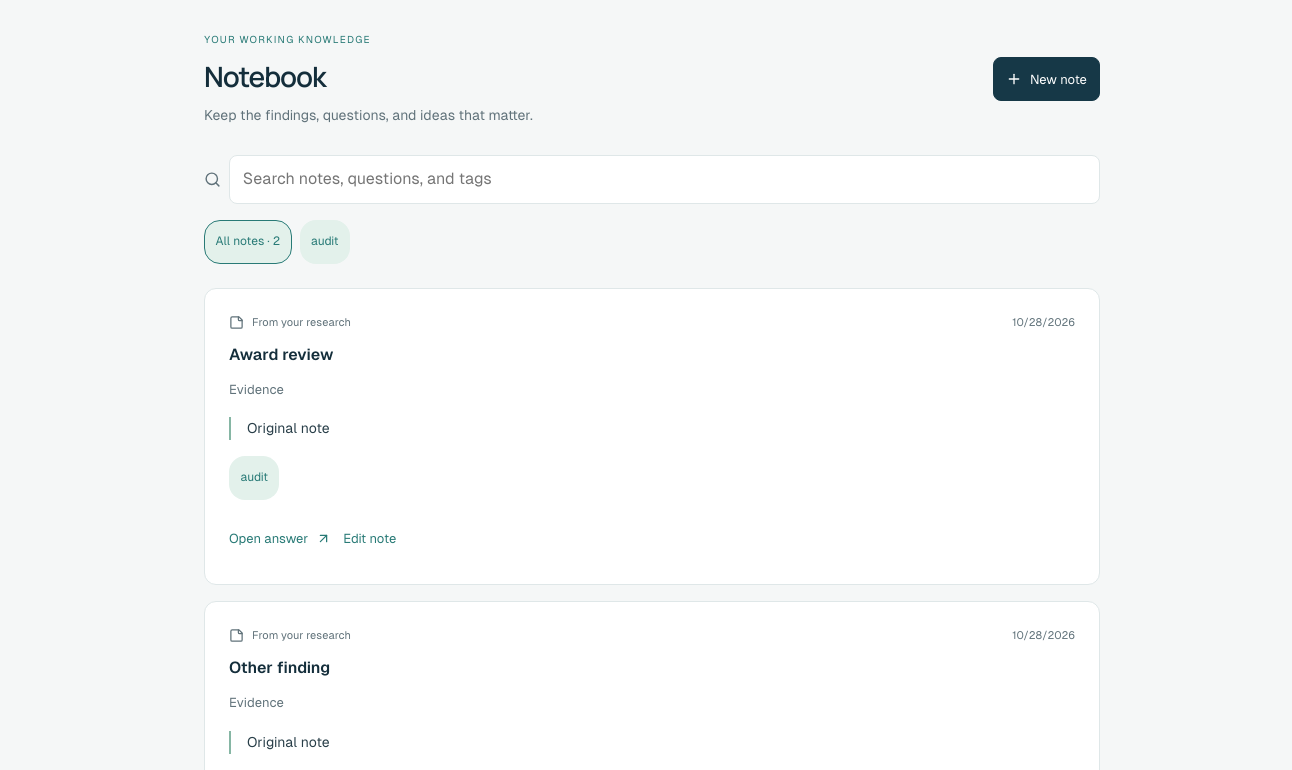
Notebook › filters by search and shows a useful empty state
Type "Other finding" into the field named "Search notebook" at (664, 179), box 229,155 -> 1100,204
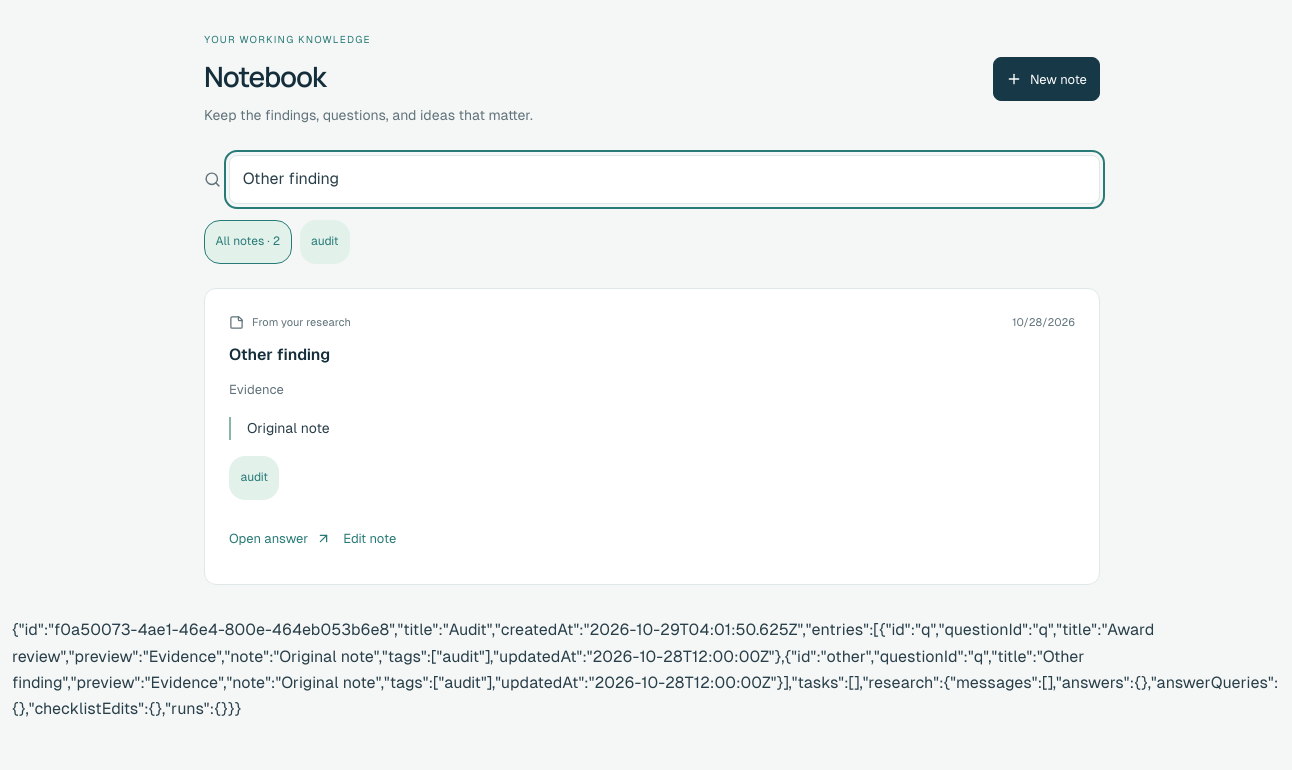
Replace the text in the field named "Search notebook" with "not-found" at (664, 179), box 229,155 -> 1100,204
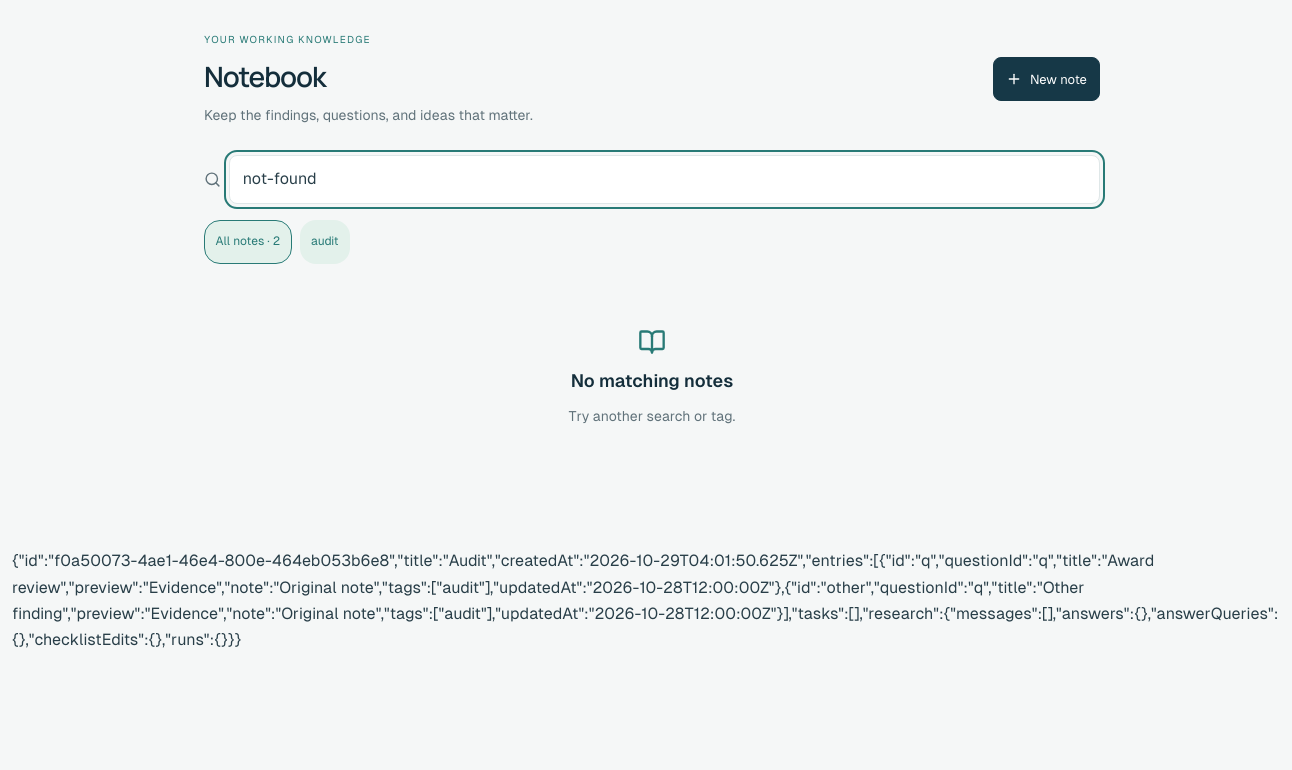
Expected: the heading "No matching notes" is shown, 571,368 -> 733,393
